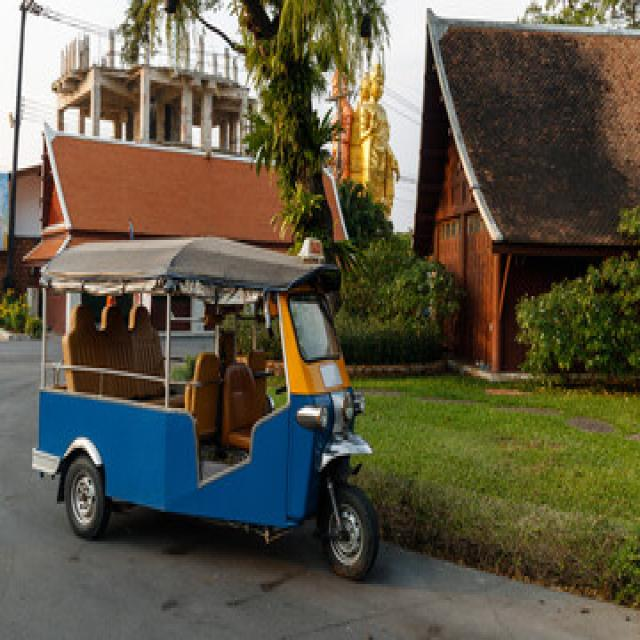three wheeler: (32, 237, 377, 579)
